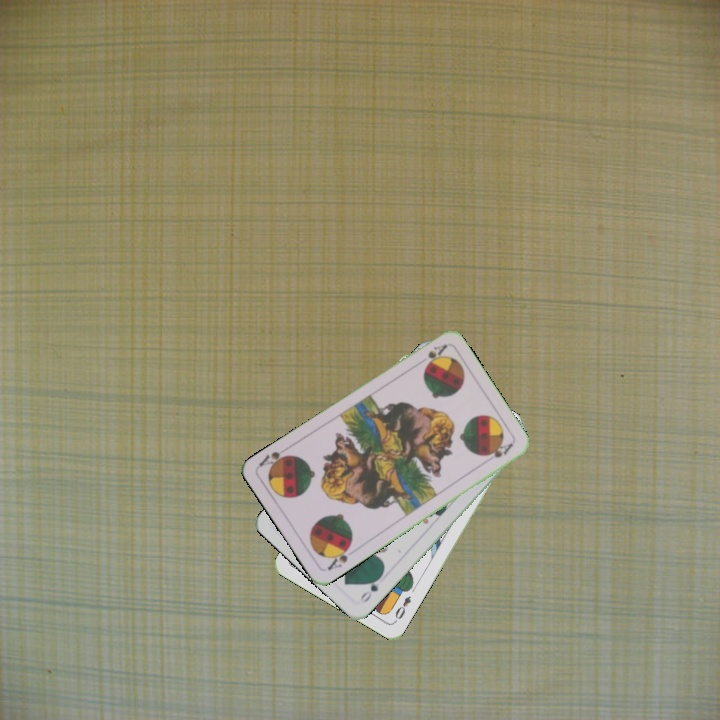EO: (390, 592, 413, 625)
GO: (356, 571, 385, 606)
SA: (323, 541, 354, 573), (421, 340, 450, 369)
